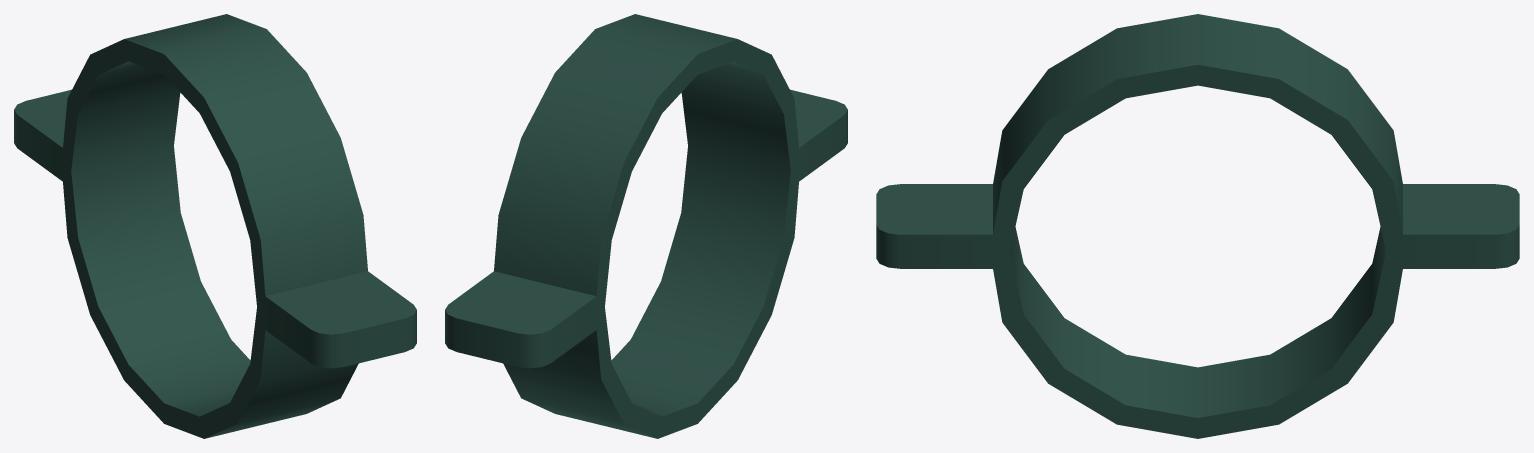
The model's file is PipeHolder_Ring01_Large.fbx.
3 views of the same model, side by side, from view 1: azimuth 30°, elevation 25°; view 2: azimuth 150°, elevation 25°; view 3: azimuth 270°, elevation 25° (orthographic).
Visible parts, largest first — view 1: PipeHolder_Ring01_Large.001; view 2: PipeHolder_Ring01_Large.001; view 3: PipeHolder_Ring01_Large.001.
Part boxes in pixels (x1=…): PipeHolder_Ring01_Large.001: x1=14, y1=14, x2=416, y2=438; PipeHolder_Ring01_Large.001: x1=445, y1=14, x2=847, y2=438; PipeHolder_Ring01_Large.001: x1=876, y1=14, x2=1519, y2=438.
Size of the model in its own units: 0.064 by 0.2203 by 0.3431.
